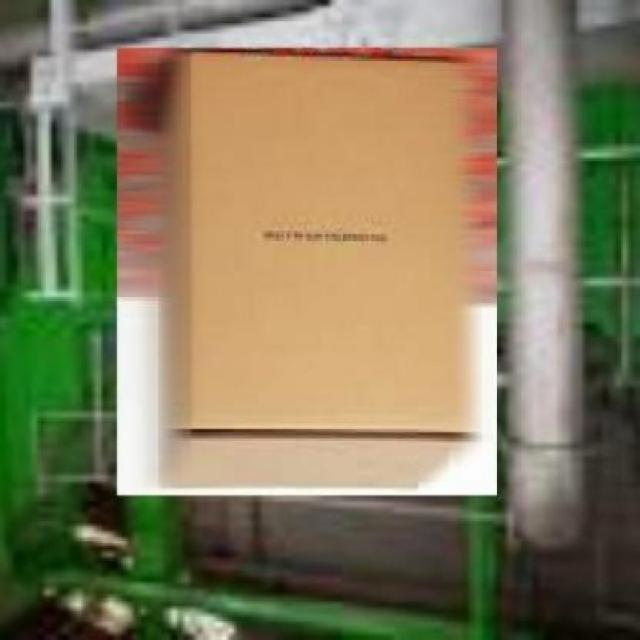box: (109, 40, 503, 502)
